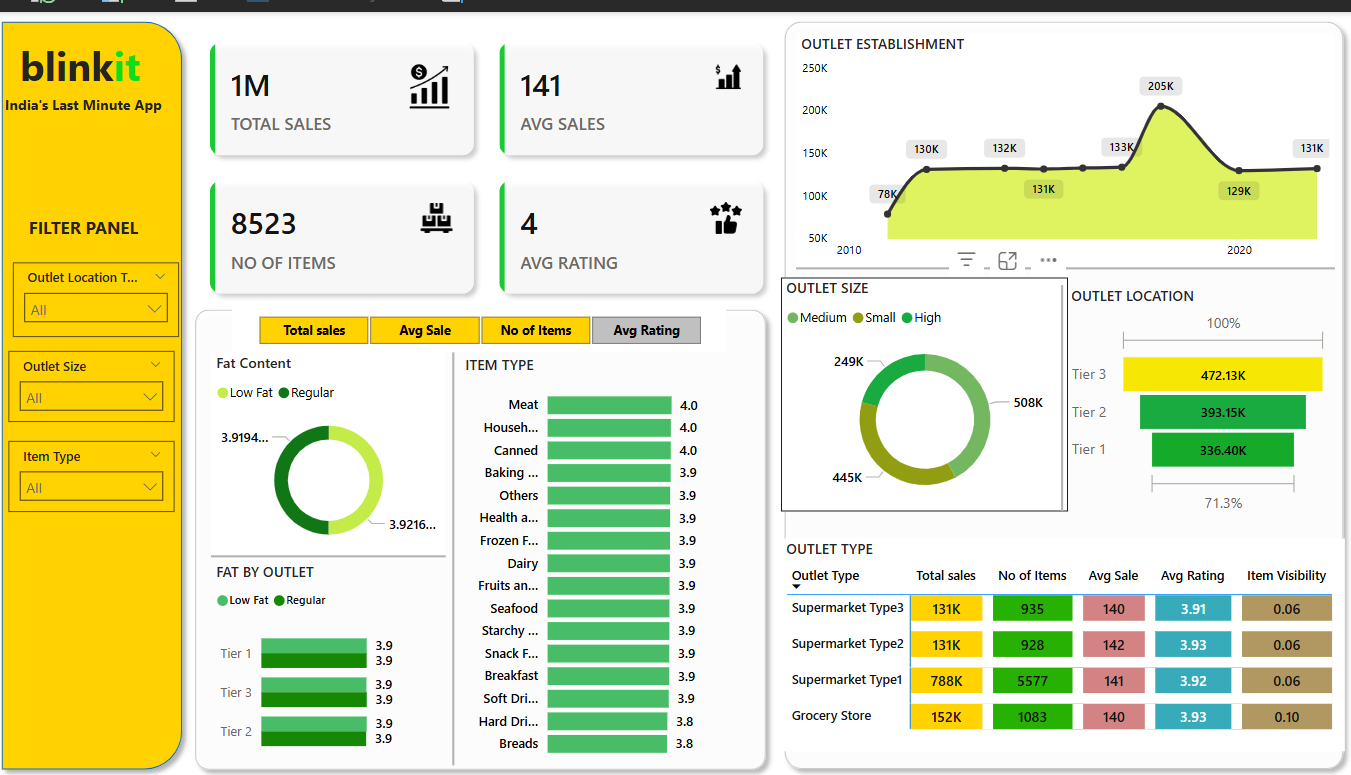

The page's visual inventory and layout, read from the dashboard file:
{"tool":"powerbi","page":{"name":"Page 1","canvas":[1280,720],"ordinal":0},"visuals":[{"type":"shape","box":[0,0,187.7,721.1],"z":0},{"type":"textbox","box":[21.1,19.3,154.4,78.9],"z":1000},{"type":"cardVisual","fields":{"Data":["BlinkIT Grocery Data.Total sales","BlinkIT Grocery Data.Avg Sale","BlinkIT Grocery Data.No of Items","BlinkIT Grocery Data.Avg Rating"]},"box":[186.9,11.2,554.4,270],"z":2000},{"type":"shape","box":[182.1,270,554.4,450.5],"z":3000},{"type":"donutChart","title":"Fat Content","fields":{"Y":["BlinkIT Grocery Data.Avg Rating"],"Category":["BlinkIT Grocery Data.Item Fat Content"]},"box":[206.1,319.5,220.5,193.3],"z":4000},{"type":"slicer","fields":{"Values":["Metrix.Metrix"]},"box":[225.3,279.6,464.9,39.9],"z":5000},{"type":"clusteredBarChart","title":"FAT BY OUTLET","fields":{"Y":["BlinkIT Grocery Data.Avg Rating"],"Category":["BlinkIT Grocery Data.Outlet Location Type"],"Series":["BlinkIT Grocery Data.Item Fat Content"]},"box":[206.1,516,220.5,194.9],"z":6000},{"type":"shape","box":[206.1,495.3,220.5,33.6],"z":7000},{"type":"shape","box":[426.6,319.5,12.8,388.2],"z":8000},{"type":"barChart","title":"ITEM TYPE","fields":{"Y":["BlinkIT Grocery Data.Avg Rating"],"Category":["BlinkIT Grocery Data.Item Type"]},"box":[439.4,321.1,276.4,388.2],"z":9000},{"type":"shape","box":[736.5,0,543.2,720.5],"z":10000},{"type":"lineChart","title":"OUTLET ESTABLISHMENT","fields":{"Category":["BlinkIT Grocery Data.Outlet Establishment Year"],"Y":["BlinkIT Grocery Data.Total sales"]},"box":[755.7,19.2,506.5,220.5],"z":11000},{"type":"shape","box":[755.7,223.7,506.5,33.6],"z":12000},{"type":"donutChart","title":"OUTLET SIZE","fields":{"Y":["BlinkIT Grocery Data.Total sales"],"Category":["BlinkIT Grocery Data.Outlet Size"]},"box":[741.3,249.2,270,220.5],"z":13000},{"type":"shape","box":[1001.7,257.2,9.6,212.5],"z":14000},{"type":"funnel","title":"OUTLET LOCATION","fields":{"Y":["Sum(BlinkIT Grocery Data.Sales)"],"Category":["BlinkIT Grocery Data.Outlet Location Type"]},"box":[1009.7,257.2,250.8,220],"z":15000},{"type":"pivotTable","title":"OUTLET TYPE","fields":{"Rows":["BlinkIT Grocery Data.Outlet Type"],"Values":["BlinkIT Grocery Data.Total sales","BlinkIT Grocery Data.No of Items","BlinkIT Grocery Data.Avg Sale","BlinkIT Grocery Data.Avg Rating","Avg(BlinkIT Grocery Data.Item Visibility)"]},"box":[742.1,494.7,529.8,200],"z":16000},{"type":"slicer","fields":{"Values":["BlinkIT Grocery Data.Outlet Location Type"]},"box":[19.3,235.1,156.1,70.2],"z":17000},{"type":"slicer","fields":{"Values":["BlinkIT Grocery Data.Outlet Size"]},"box":[15.8,319.3,156.1,66.7],"z":18000},{"type":"slicer","fields":{"Values":["BlinkIT Grocery Data.Item Type"]},"box":[15.8,403.5,156.1,66.7],"z":19000},{"type":"textbox","box":[29.8,186,124.6,36.8],"z":20000},{"type":"textbox","box":[7,71.9,171.9,38.6],"z":21000}]}

Visuals, with their boxes on the page's 1280x720 design canvas (x1, y1, x2, y2). These are canvas units, not pixel positions in the 1351x775 screenshot, which may show the page scaled, cropped or inside an application window:
shape: [x1=0, y1=0, x2=188, y2=721]
textbox: [x1=21, y1=19, x2=176, y2=98]
cardVisual - BlinkIT Grocery Data.Total sales x BlinkIT Grocery Data.Avg Sale: [x1=187, y1=11, x2=741, y2=281]
shape: [x1=182, y1=270, x2=736, y2=720]
"Fat Content" donutChart: [x1=206, y1=320, x2=427, y2=513]
slicer - Metrix.Metrix: [x1=225, y1=280, x2=690, y2=320]
"FAT BY OUTLET" clusteredBarChart: [x1=206, y1=516, x2=427, y2=711]
shape: [x1=206, y1=495, x2=427, y2=529]
shape: [x1=427, y1=320, x2=439, y2=708]
"ITEM TYPE" barChart: [x1=439, y1=321, x2=716, y2=709]
shape: [x1=736, y1=0, x2=1280, y2=720]
"OUTLET ESTABLISHMENT" lineChart: [x1=756, y1=19, x2=1262, y2=240]
shape: [x1=756, y1=224, x2=1262, y2=257]
"OUTLET SIZE" donutChart: [x1=741, y1=249, x2=1011, y2=470]
shape: [x1=1002, y1=257, x2=1011, y2=470]
"OUTLET LOCATION" funnel: [x1=1010, y1=257, x2=1260, y2=477]
"OUTLET TYPE" pivotTable: [x1=742, y1=495, x2=1272, y2=695]
slicer - BlinkIT Grocery Data.Outlet Location Type: [x1=19, y1=235, x2=175, y2=305]
slicer - BlinkIT Grocery Data.Outlet Size: [x1=16, y1=319, x2=172, y2=386]
slicer - BlinkIT Grocery Data.Item Type: [x1=16, y1=404, x2=172, y2=470]
textbox: [x1=30, y1=186, x2=154, y2=223]
textbox: [x1=7, y1=72, x2=179, y2=110]
